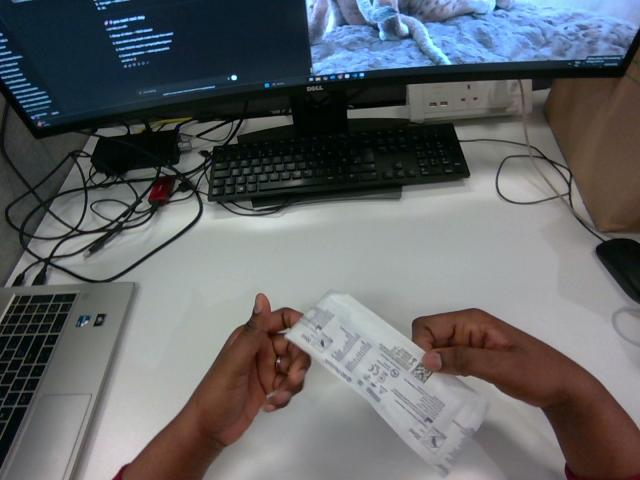syringe: (286, 291, 488, 476)
